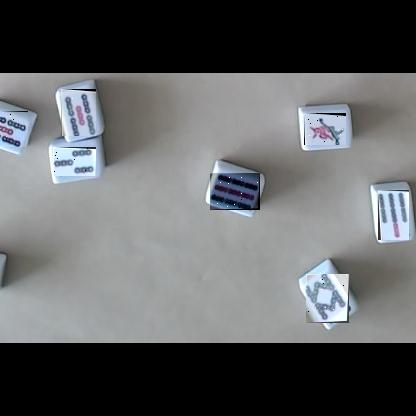1s: (304, 113, 346, 145)
3s: (53, 147, 96, 176)
5s: (61, 89, 96, 136), (0, 111, 28, 147)
7s: (378, 190, 409, 240)
8s: (306, 274, 349, 323)
9s: (210, 173, 260, 210)
